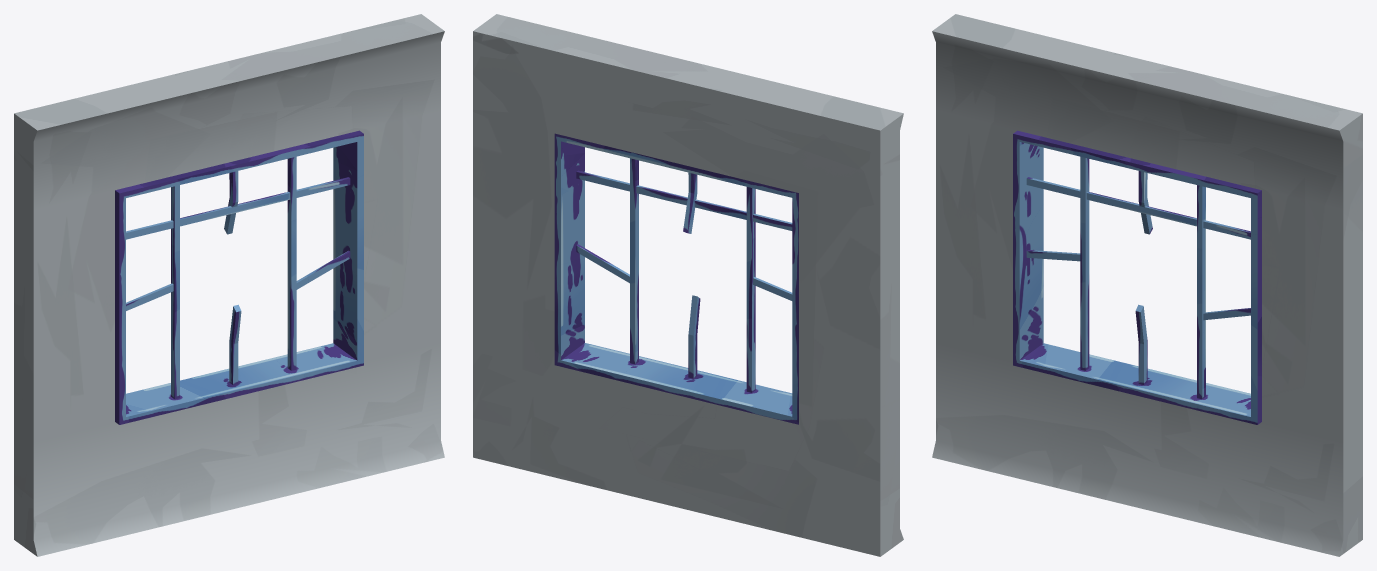
The model's file is Wall_Window_1.glb.
The picture shows the model from 3 angles, left to right: view 1: azimuth 30°, elevation 25°; view 2: azimuth 150°, elevation 25°; view 3: azimuth 330°, elevation 25°; orthographic projection.
Visible parts, largest first — view 1: Wall_2, Window_1; view 2: Wall_2, Window_1; view 3: Wall_2, Window_1.
Part boxes in pixels (x1,y1,x2,y2): Wall_2: [14, 14, 444, 556]; Window_1: [115, 130, 363, 424]; Wall_2: [473, 14, 903, 556]; Window_1: [554, 133, 798, 424]; Wall_2: [932, 14, 1362, 556]; Window_1: [1013, 130, 1261, 424].
Size of the model in its own units: 2 by 2 by 0.2039.
Materials: 2 (2 with a texture image).
